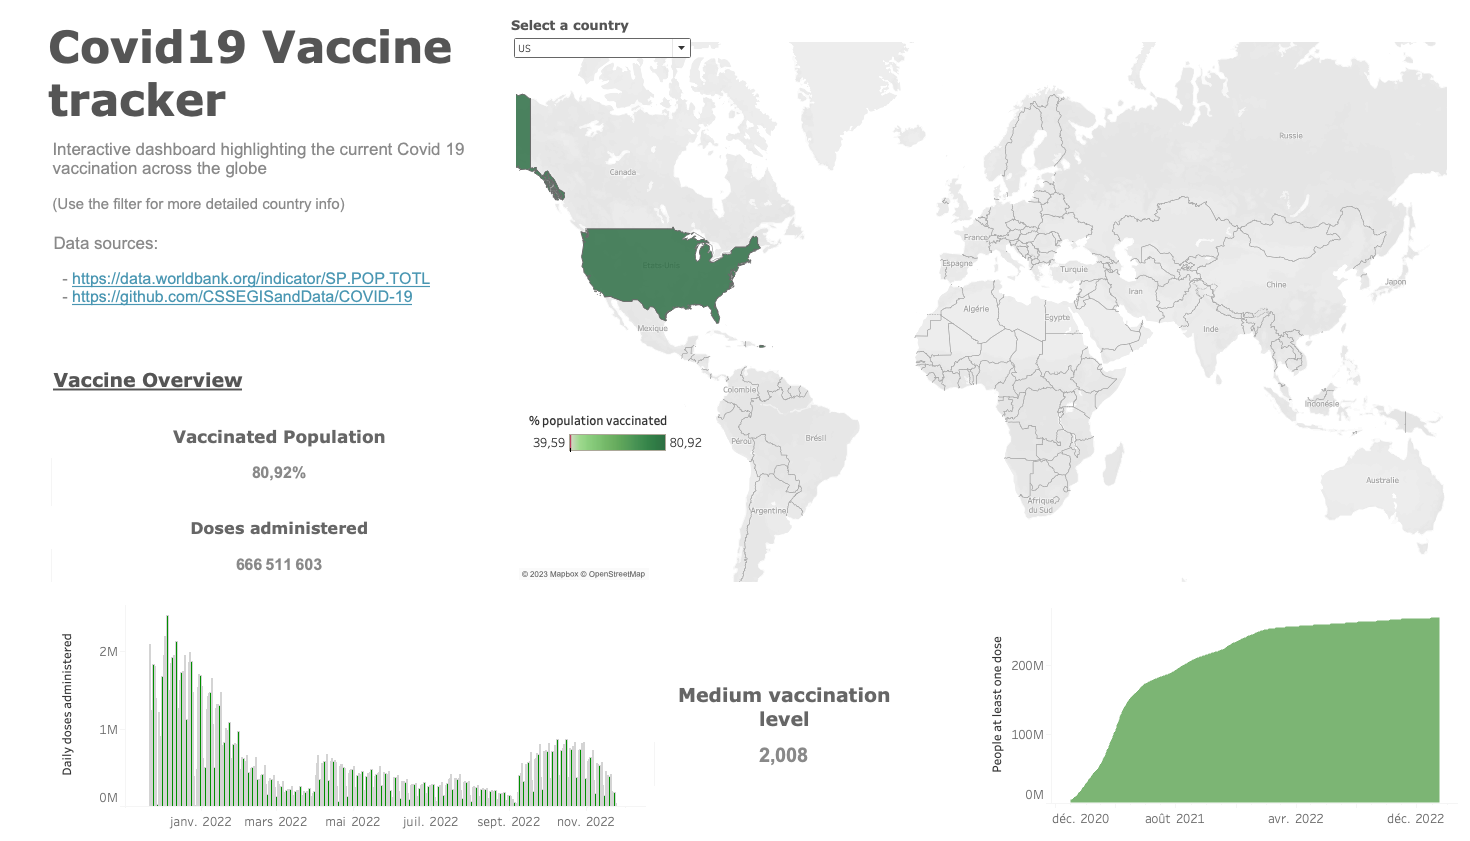

What the dashboard file says about the page in this screenshot:
{"tool":"tableau","page":{"name":"Vaccination Status","canvas":[1420,850],"ordinal":1},"visuals":[{"type":"text","box":[7,10,513,129]},{"type":"filter","title":"GeoMap Vac Status","param":"[federated.0b1zsqv1sy6u9s127zj8q0cv0n31].[none:Country/Region (Vaccine):nk]","box":[472,19,183,47]},{"type":"text","box":[8,40,465,32]},{"type":"worksheet","title":"GeoMap Vac Status","mark":"Automatic","cols":["date (Vaccine)"],"box":[473,40,939,548.1]},{"type":"text","box":[11,138,479,81]},{"type":"text","box":[12,223,584,99]},{"type":"text","box":[8,344.1,465,76]},{"type":"legend","title":"GeoMap Vac Status","param":"[federated.0b1zsqv1sy6u9s127zj8q0cv0n31].[usr:Calculation_3866692176821010434:qk","box":[490,414,178,58]},{"type":"worksheet","title":"1DoseRatio","mark":"Text","cols":["date (Vaccine)"],"box":[8,420.1,465,92]},{"type":"worksheet","title":"Vaccine","mark":"Text","cols":["date (Vaccine)"],"box":[8,512.1,465,76]},{"type":"worksheet","title":"Vaccine Trend","mark":"Bar","rows":["Doses_admin"],"cols":["date (Vaccine)"],"box":[8,588.1,603,253.9]},{"type":"worksheet","title":"Vaccine Trend (2)","mark":"Area","rows":["People_at_least_one_dose"],"cols":["date (Vaccine)"],"box":[942,610,477,225]},{"type":"worksheet","title":"Global Vac Ratio","mark":"Text","cols":["date (Vaccine)"],"box":[611,677.1,269,115]}]}

Visuals, with their boxes on the page's 1420x850 design canvas (x1, y1, x2, y2). These are canvas units, not pixel positions in the 1470x841 screenshot, which may show the page scaled, cropped or inside an application window:
text: x1=7 y1=10 x2=520 y2=139
"GeoMap Vac Status" filter: x1=472 y1=19 x2=655 y2=66
text: x1=8 y1=40 x2=473 y2=72
"GeoMap Vac Status" worksheet: x1=473 y1=40 x2=1412 y2=588
text: x1=11 y1=138 x2=490 y2=219
text: x1=12 y1=223 x2=596 y2=322
text: x1=8 y1=344 x2=473 y2=420
"GeoMap Vac Status" legend: x1=490 y1=414 x2=668 y2=472
"1DoseRatio" worksheet (Text marks): x1=8 y1=420 x2=473 y2=512
"Vaccine" worksheet (Text marks): x1=8 y1=512 x2=473 y2=588
"Vaccine Trend" worksheet (Bar marks): x1=8 y1=588 x2=611 y2=842
"Vaccine Trend (2)" worksheet (Area marks): x1=942 y1=610 x2=1419 y2=835
"Global Vac Ratio" worksheet (Text marks): x1=611 y1=677 x2=880 y2=792
